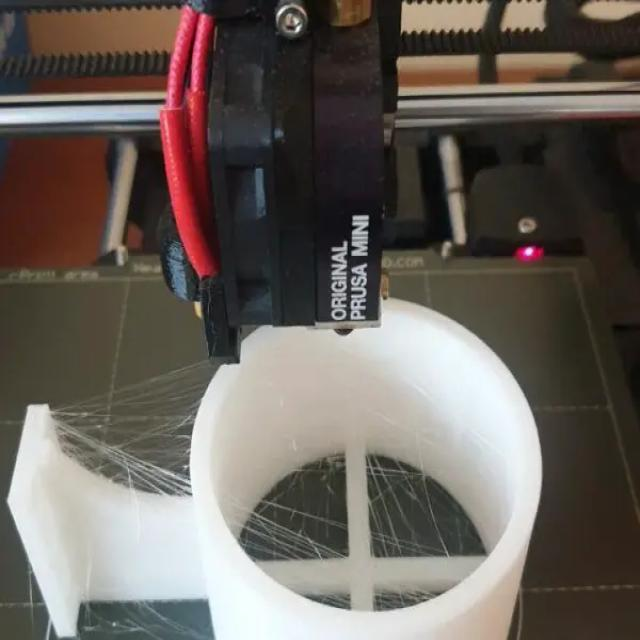Stringing: (120, 456, 191, 498), (58, 415, 97, 461), (242, 521, 284, 548)
